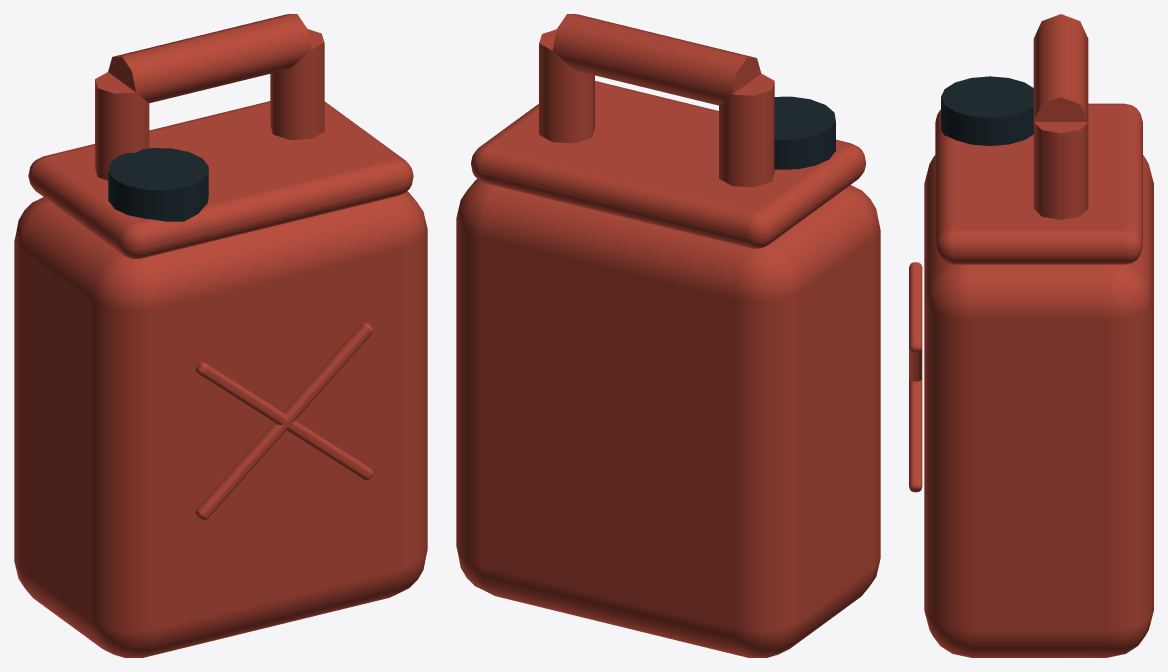
Rendered from fuel-can.glb.
3 renders of one model, left to right at view 1: azimuth 30°, elevation 25°; view 2: azimuth 150°, elevation 25°; view 3: azimuth 270°, elevation 25°, orthographic. The views are drawn at different scales.
Visible parts, largest first — view 1: Original authored part (×8); view 2: Original authored part (×6); view 3: Original authored part (×7).
Part boxes in pixels (bbox=[...]): Original authored part (×8): bbox=[14, 14, 427, 657]; Original authored part (×6): bbox=[456, 14, 880, 657]; Original authored part (×7): bbox=[909, 14, 1153, 657].
Size of the model in its own units: 0.34 by 0.545 by 0.224.
